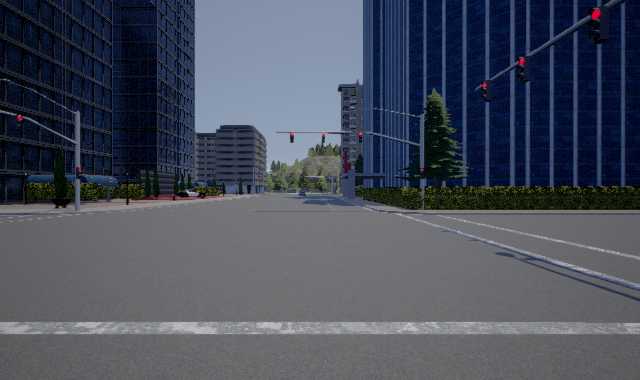traffic_light: (588, 6, 609, 44), (517, 56, 530, 83), (481, 80, 491, 102), (15, 115, 23, 130), (76, 167, 83, 179), (420, 168, 424, 179), (290, 132, 294, 143), (359, 132, 362, 143), (322, 132, 325, 143)
